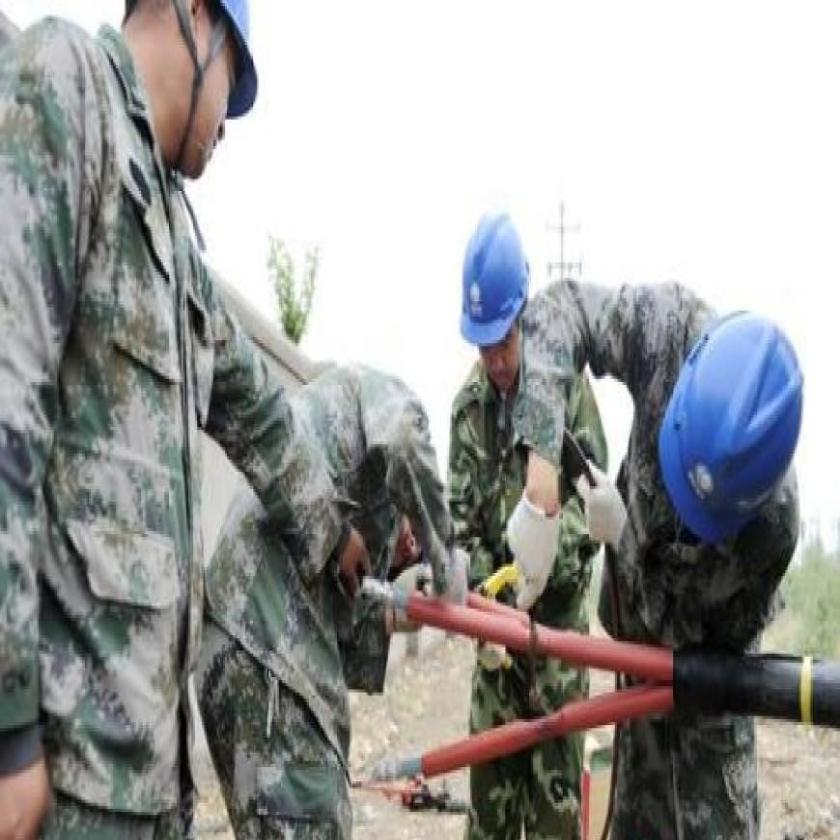Con_casco: (660, 308, 808, 570), (128, 0, 264, 210), (458, 196, 536, 405)
